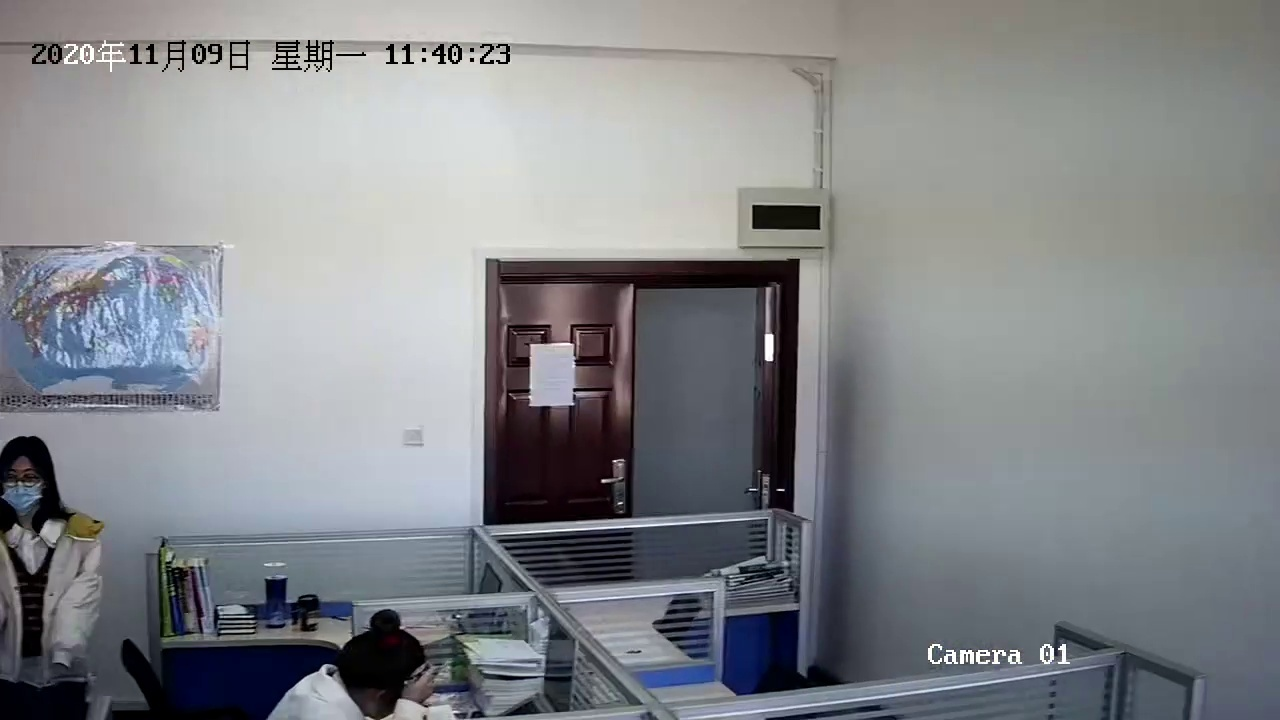mask: (0, 426, 76, 513)
